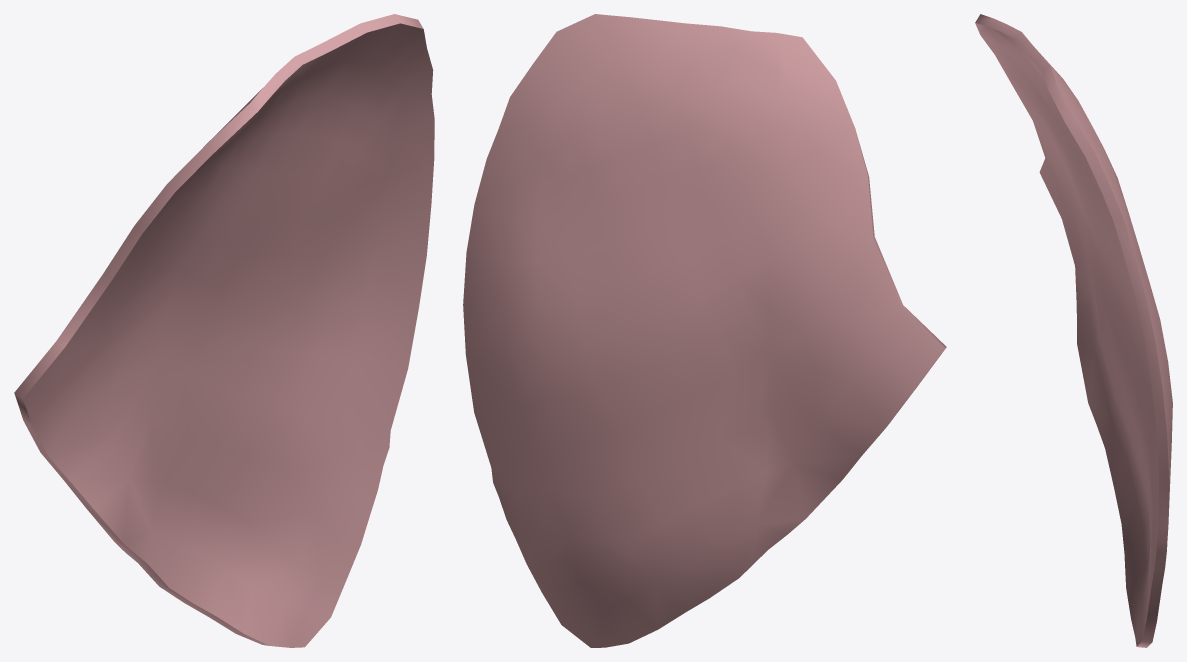
3 views of the same model, side by side, from view 1: azimuth 30°, elevation 25°; view 2: azimuth 150°, elevation 25°; view 3: azimuth 270°, elevation 25° (orthographic). The views are drawn at different scales.
Visible parts, largest first — view 1: ZA_6be303e428a8cb5c; view 2: ZA_6be303e428a8cb5c; view 3: ZA_6be303e428a8cb5c.
Part boxes in pixels (<box>): ZA_6be303e428a8cb5c: <box>14,14,434,647</box>; ZA_6be303e428a8cb5c: <box>463,14,946,647</box>; ZA_6be303e428a8cb5c: <box>975,14,1172,647</box>.
Size of the model in its own units: 0.1386 by 0.1847 by 0.0566.
